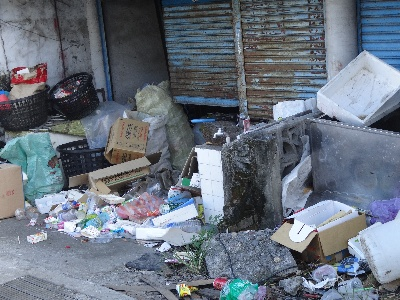box: (282, 199, 370, 267), (103, 117, 150, 163)
plastic_bag: (1, 129, 68, 208), (113, 191, 165, 218)
styrofoam: (316, 49, 400, 126)
